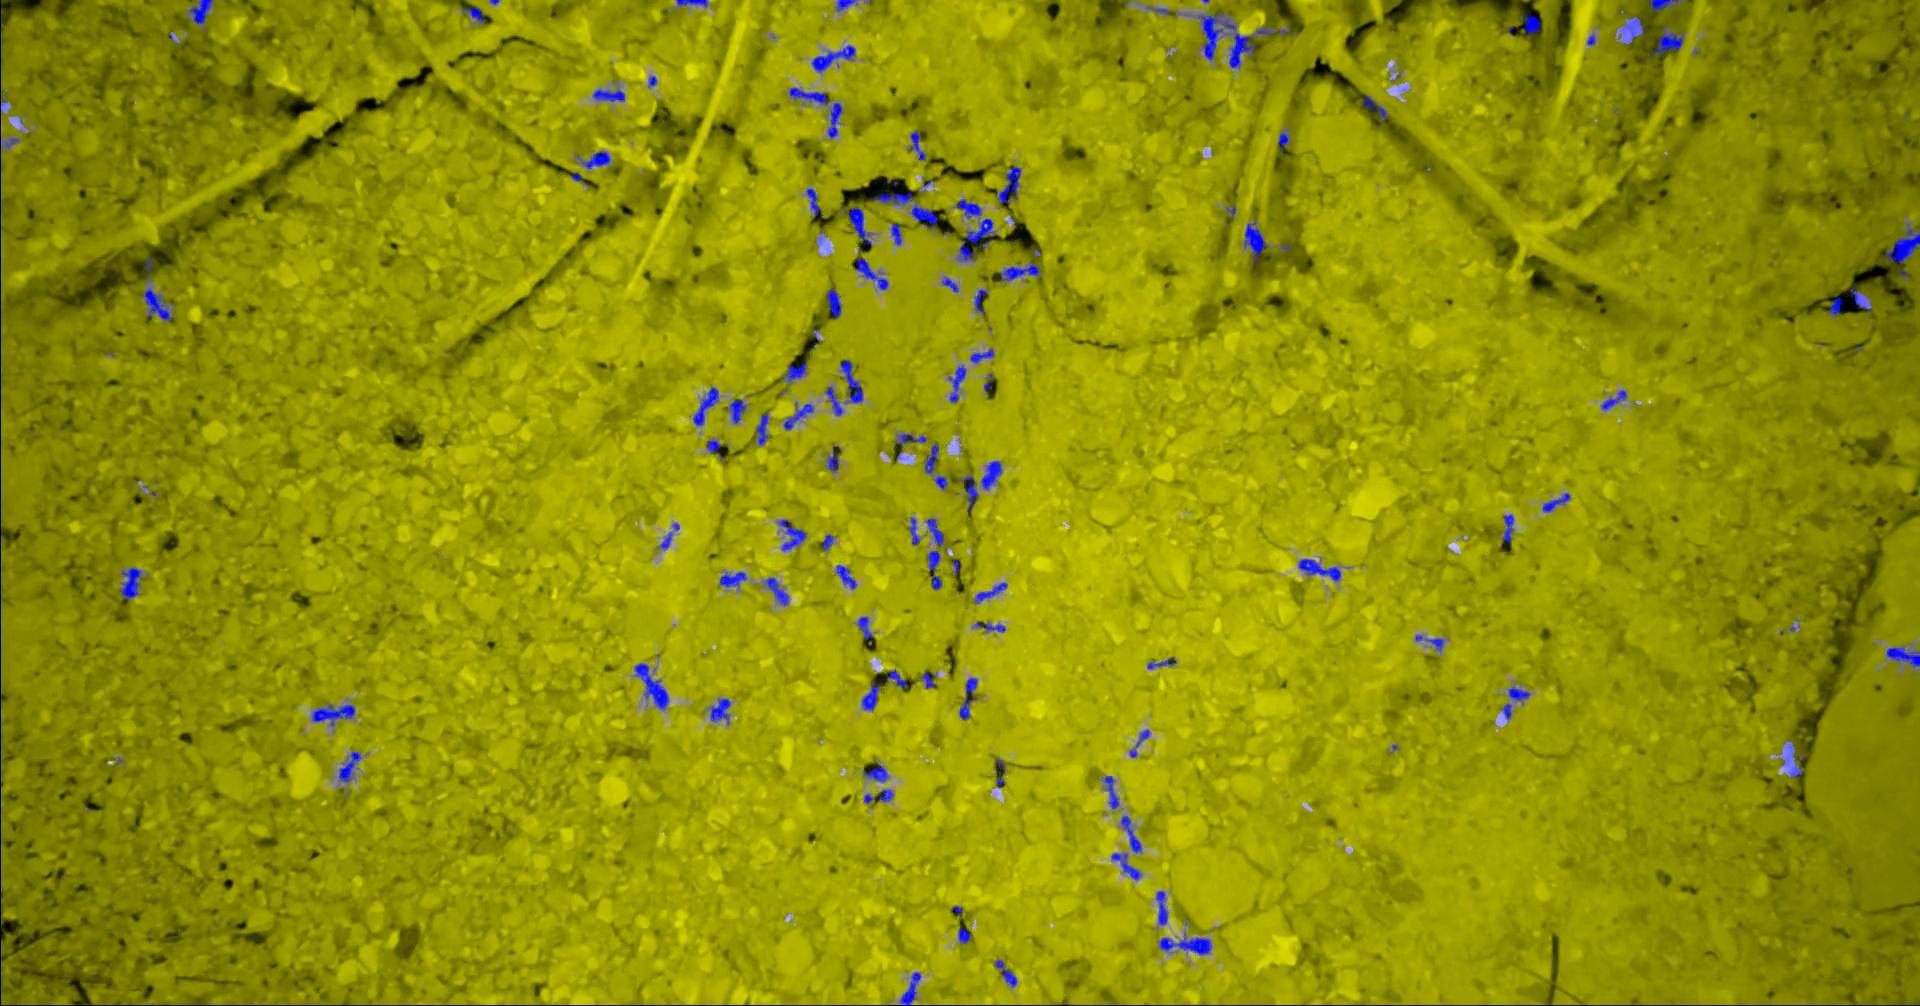ant: (636, 663, 670, 709), (960, 218, 994, 260), (1886, 224, 1920, 262), (813, 44, 857, 71), (844, 206, 872, 246), (1161, 934, 1213, 954), (857, 257, 889, 290), (1650, 25, 1685, 55), (841, 359, 863, 403), (143, 288, 174, 320), (695, 387, 720, 426), (1244, 221, 1267, 263), (1300, 558, 1342, 580), (312, 704, 356, 725), (778, 520, 808, 550), (999, 166, 1022, 203), (1001, 260, 1041, 281), (785, 403, 815, 429), (790, 86, 830, 105), (121, 567, 143, 600), (1123, 815, 1143, 852), (1112, 854, 1142, 879), (959, 475, 979, 511), (961, 677, 979, 718), (977, 582, 1010, 603), (902, 970, 922, 1005), (340, 751, 362, 782), (913, 201, 938, 227), (982, 460, 1004, 489), (767, 575, 790, 605), (950, 365, 968, 401), (1888, 647, 1920, 667), (1363, 95, 1389, 119), (996, 959, 1018, 986), (928, 550, 943, 589), (871, 191, 913, 205), (1130, 729, 1150, 757), (829, 102, 844, 138), (825, 386, 844, 415), (190, 0, 215, 23), (837, 564, 858, 589), (1543, 492, 1571, 511), (1851, 288, 1873, 312), (1416, 634, 1445, 652), (863, 681, 881, 710), (1603, 389, 1628, 409), (865, 761, 890, 781), (956, 199, 983, 218), (582, 151, 612, 168), (808, 188, 824, 218), (1105, 775, 1120, 808), (927, 518, 945, 546), (1520, 11, 1542, 34), (711, 699, 731, 723), (1625, 15, 1644, 41), (782, 362, 808, 381), (910, 131, 927, 160), (594, 88, 626, 102), (1157, 890, 1170, 925), (865, 789, 895, 803), (888, 669, 909, 688), (828, 288, 842, 318), (926, 443, 940, 473), (757, 413, 770, 445), (730, 399, 747, 423), (858, 616, 875, 639), (721, 572, 748, 586), (898, 433, 927, 446), (463, 6, 488, 22), (971, 348, 996, 363), (1651, 0, 1683, 11), (828, 445, 841, 473), (1148, 657, 1178, 668), (1503, 513, 1515, 542), (977, 621, 1007, 631), (977, 288, 989, 312), (1510, 686, 1531, 700), (1258, 27, 1291, 36), (922, 671, 938, 688), (709, 439, 724, 459), (910, 517, 921, 544), (1830, 296, 1844, 315), (891, 222, 903, 245), (943, 277, 960, 292), (837, 0, 858, 11), (1279, 130, 1290, 151), (662, 532, 674, 549), (823, 533, 836, 550), (1, 137, 22, 147), (677, 0, 709, 6), (960, 927, 973, 942), (936, 475, 949, 489), (1503, 702, 1512, 719)
